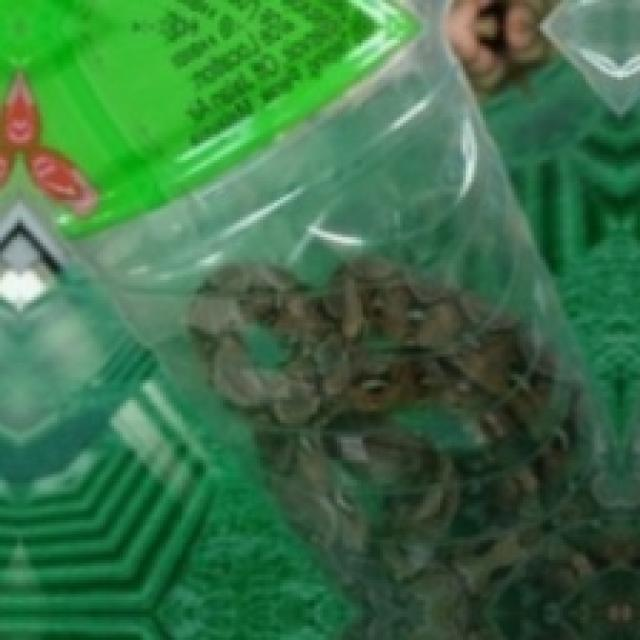reticulated python: (189, 257, 637, 637)
